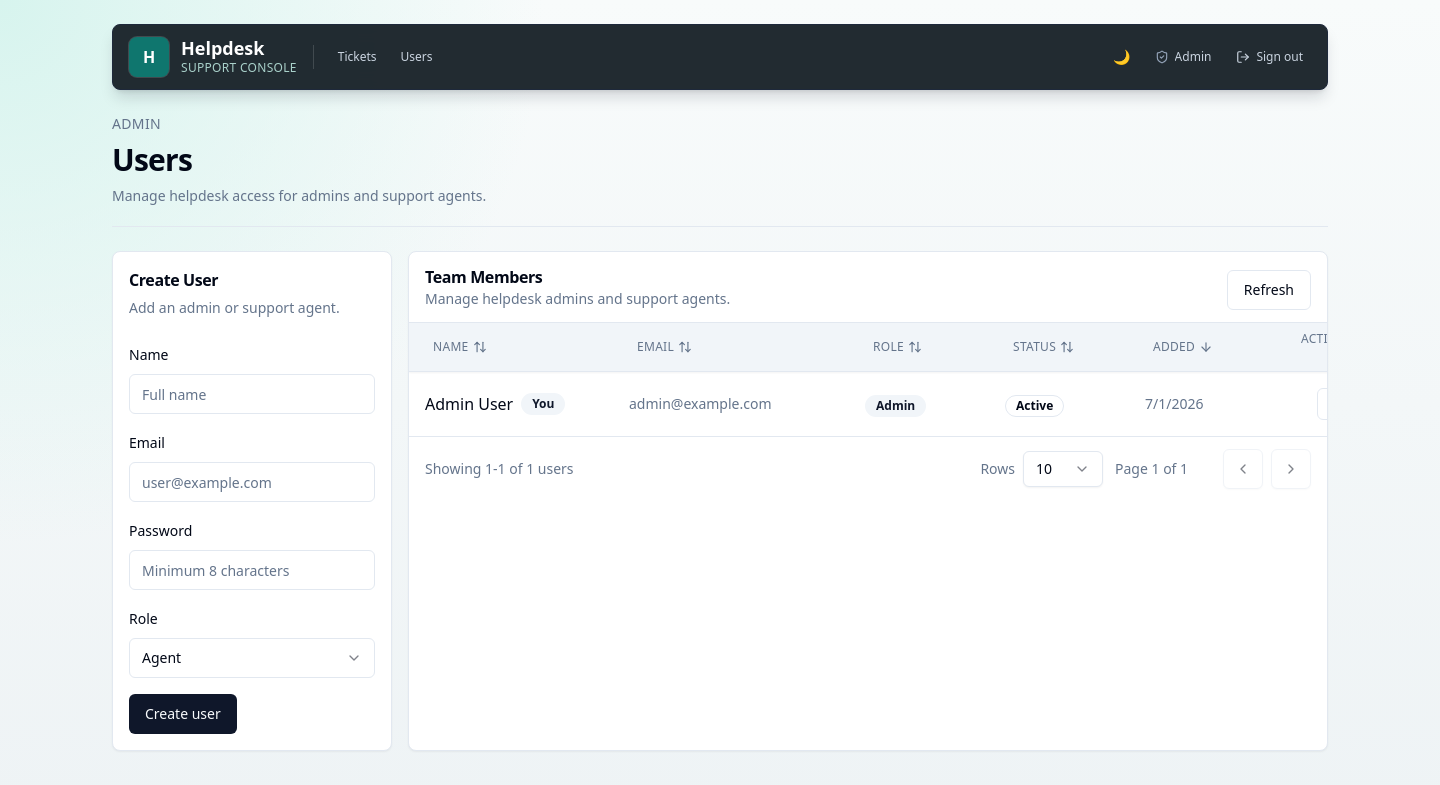
Test: Users page › creates a user with the default agent role
The width and height of the screenshot is (1440, 785).
Expected: the text "admin@example.com" is shown, [629,394,772,413]
Step 1. Type "New Agent" into the field labelled "Name" → point(252, 394), box [129,374,375,414]
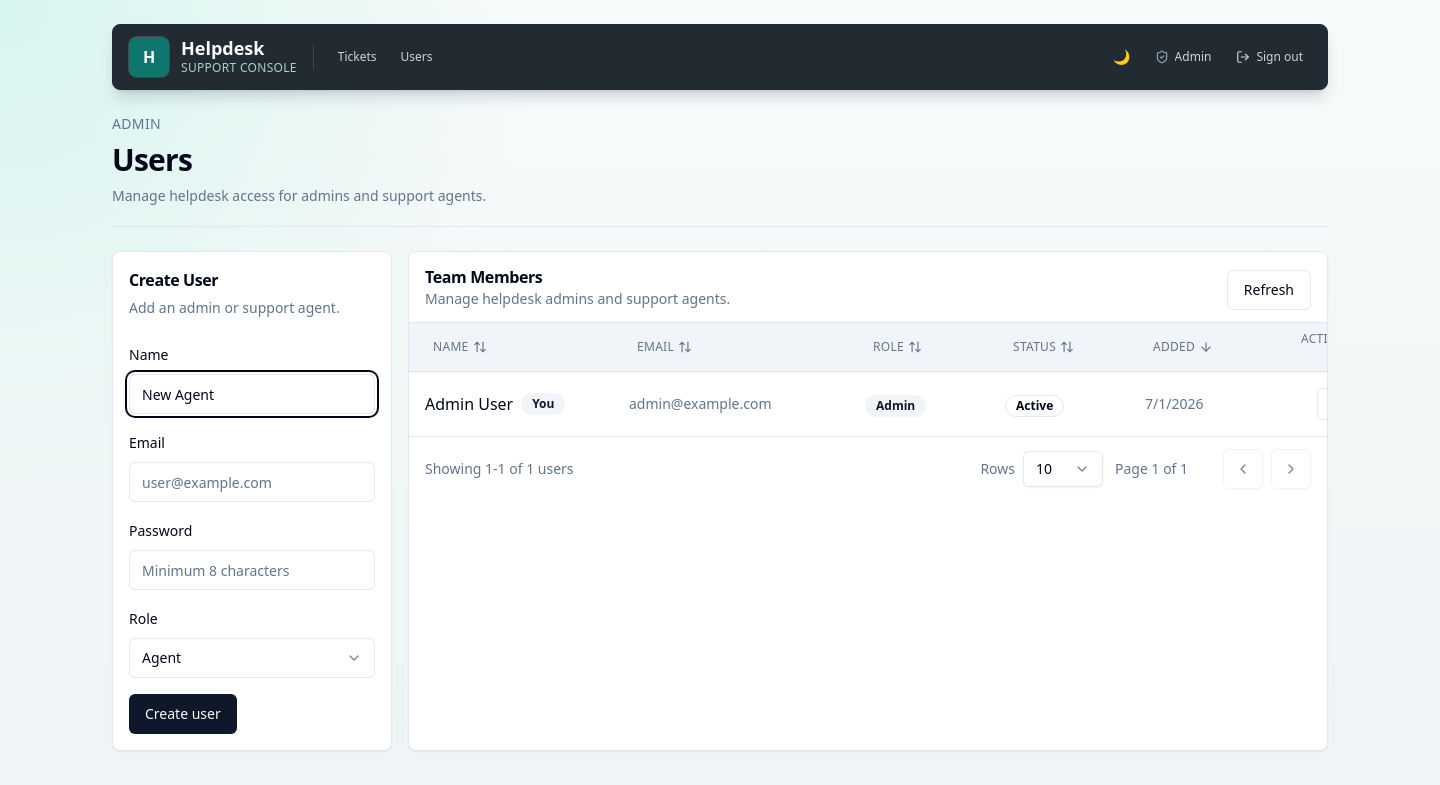
Step 2. Type "new.agent@example.com" into the field labelled "Email" → point(252, 482), box [129,462,375,502]
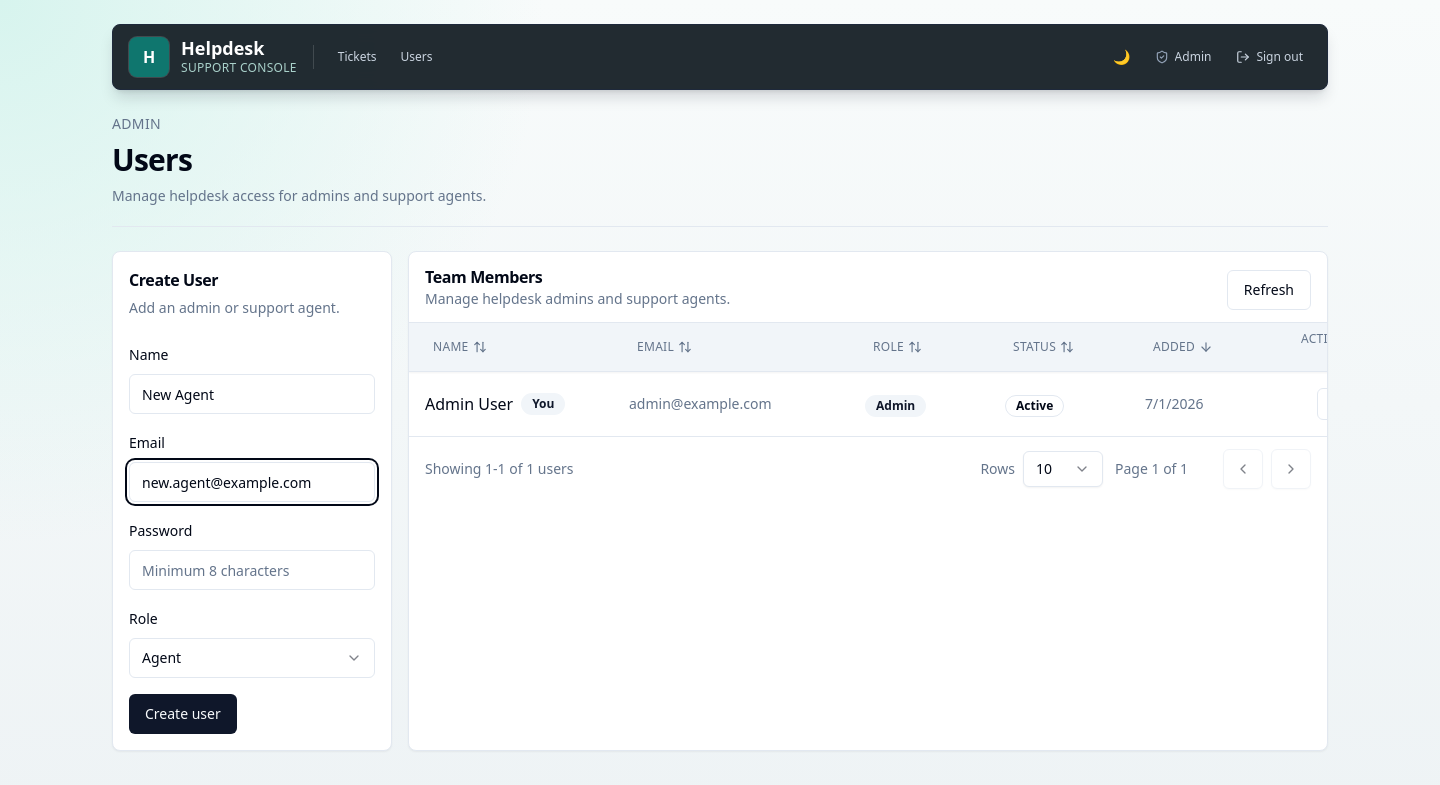
Step 3. Type "password@123" into the password field labelled "Password" → point(252, 570), box [129,550,375,590]
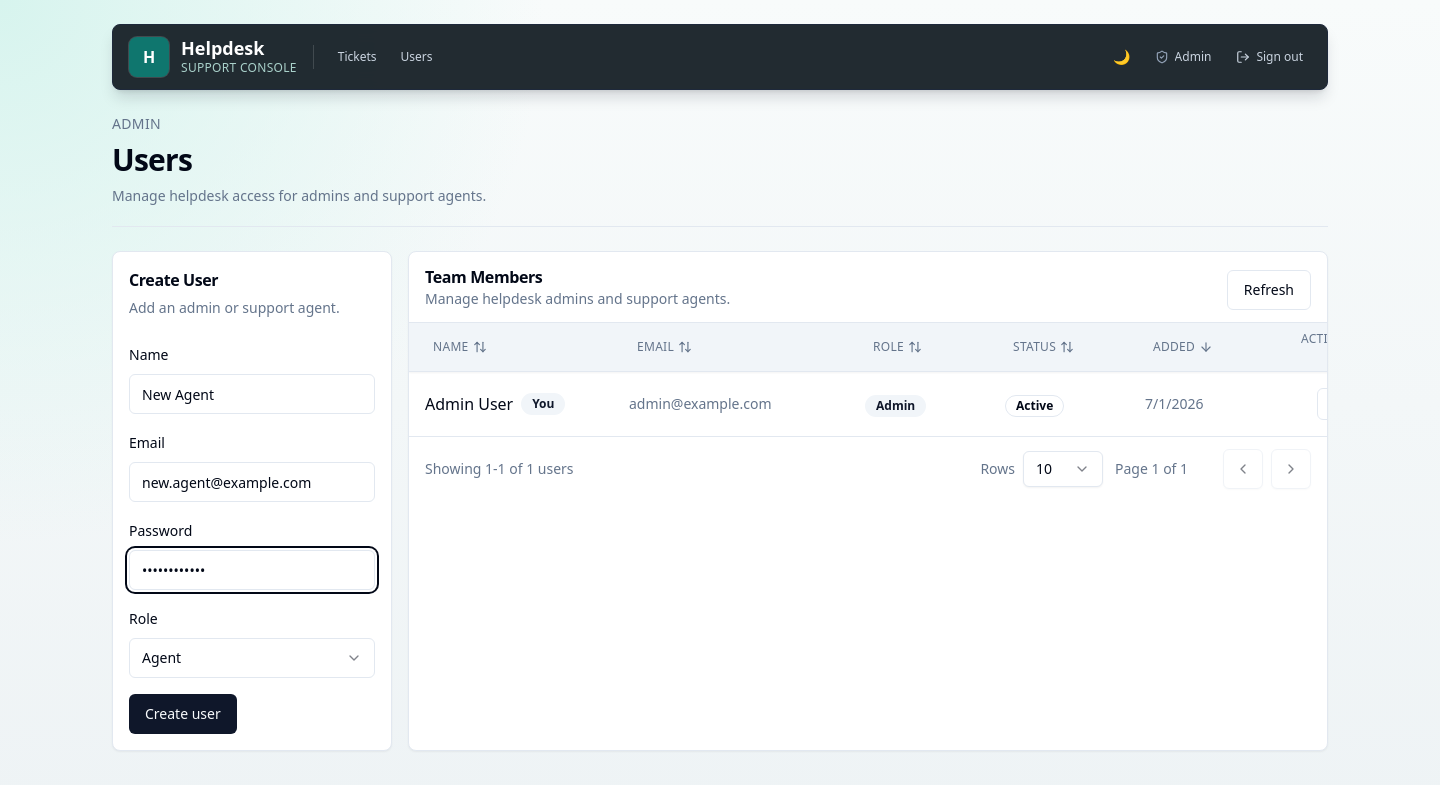
Step 4. Click the button "Create user" → point(183, 714), box [129,694,237,734]
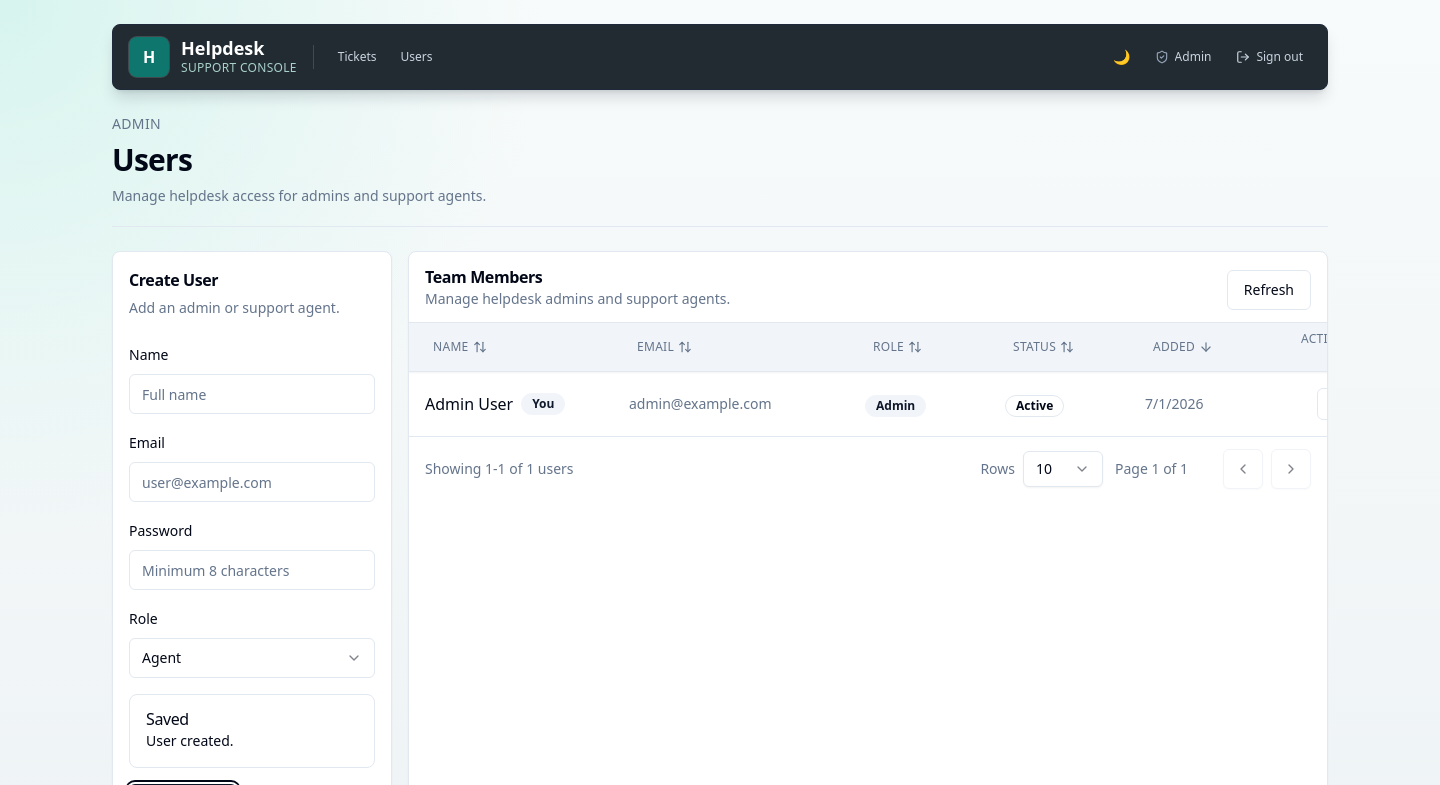
Now the text "User created." is shown, box [146,731,234,750]
